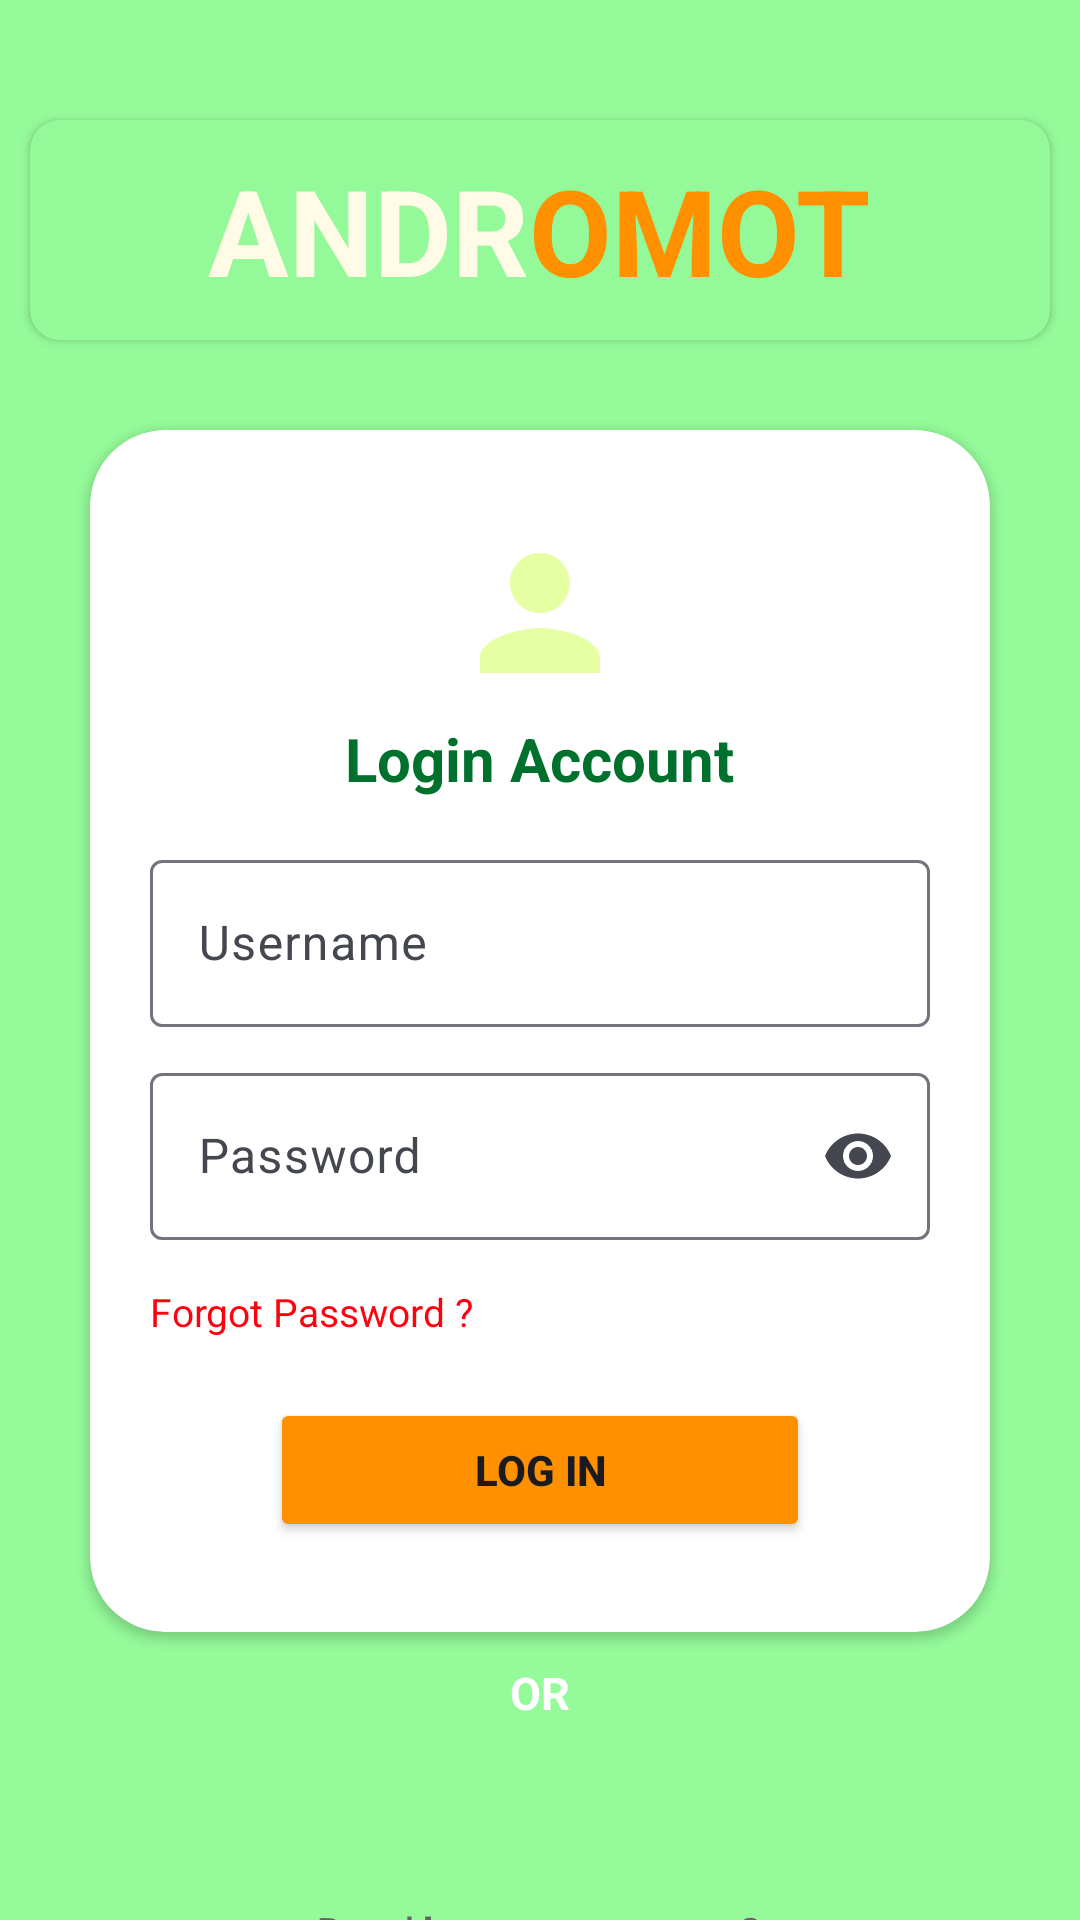

Named icons in this screenshot (1080 x 1920) and their bounding boxes, rect(x1, y1, x2, y2):
person: rect(480, 553, 600, 673)
